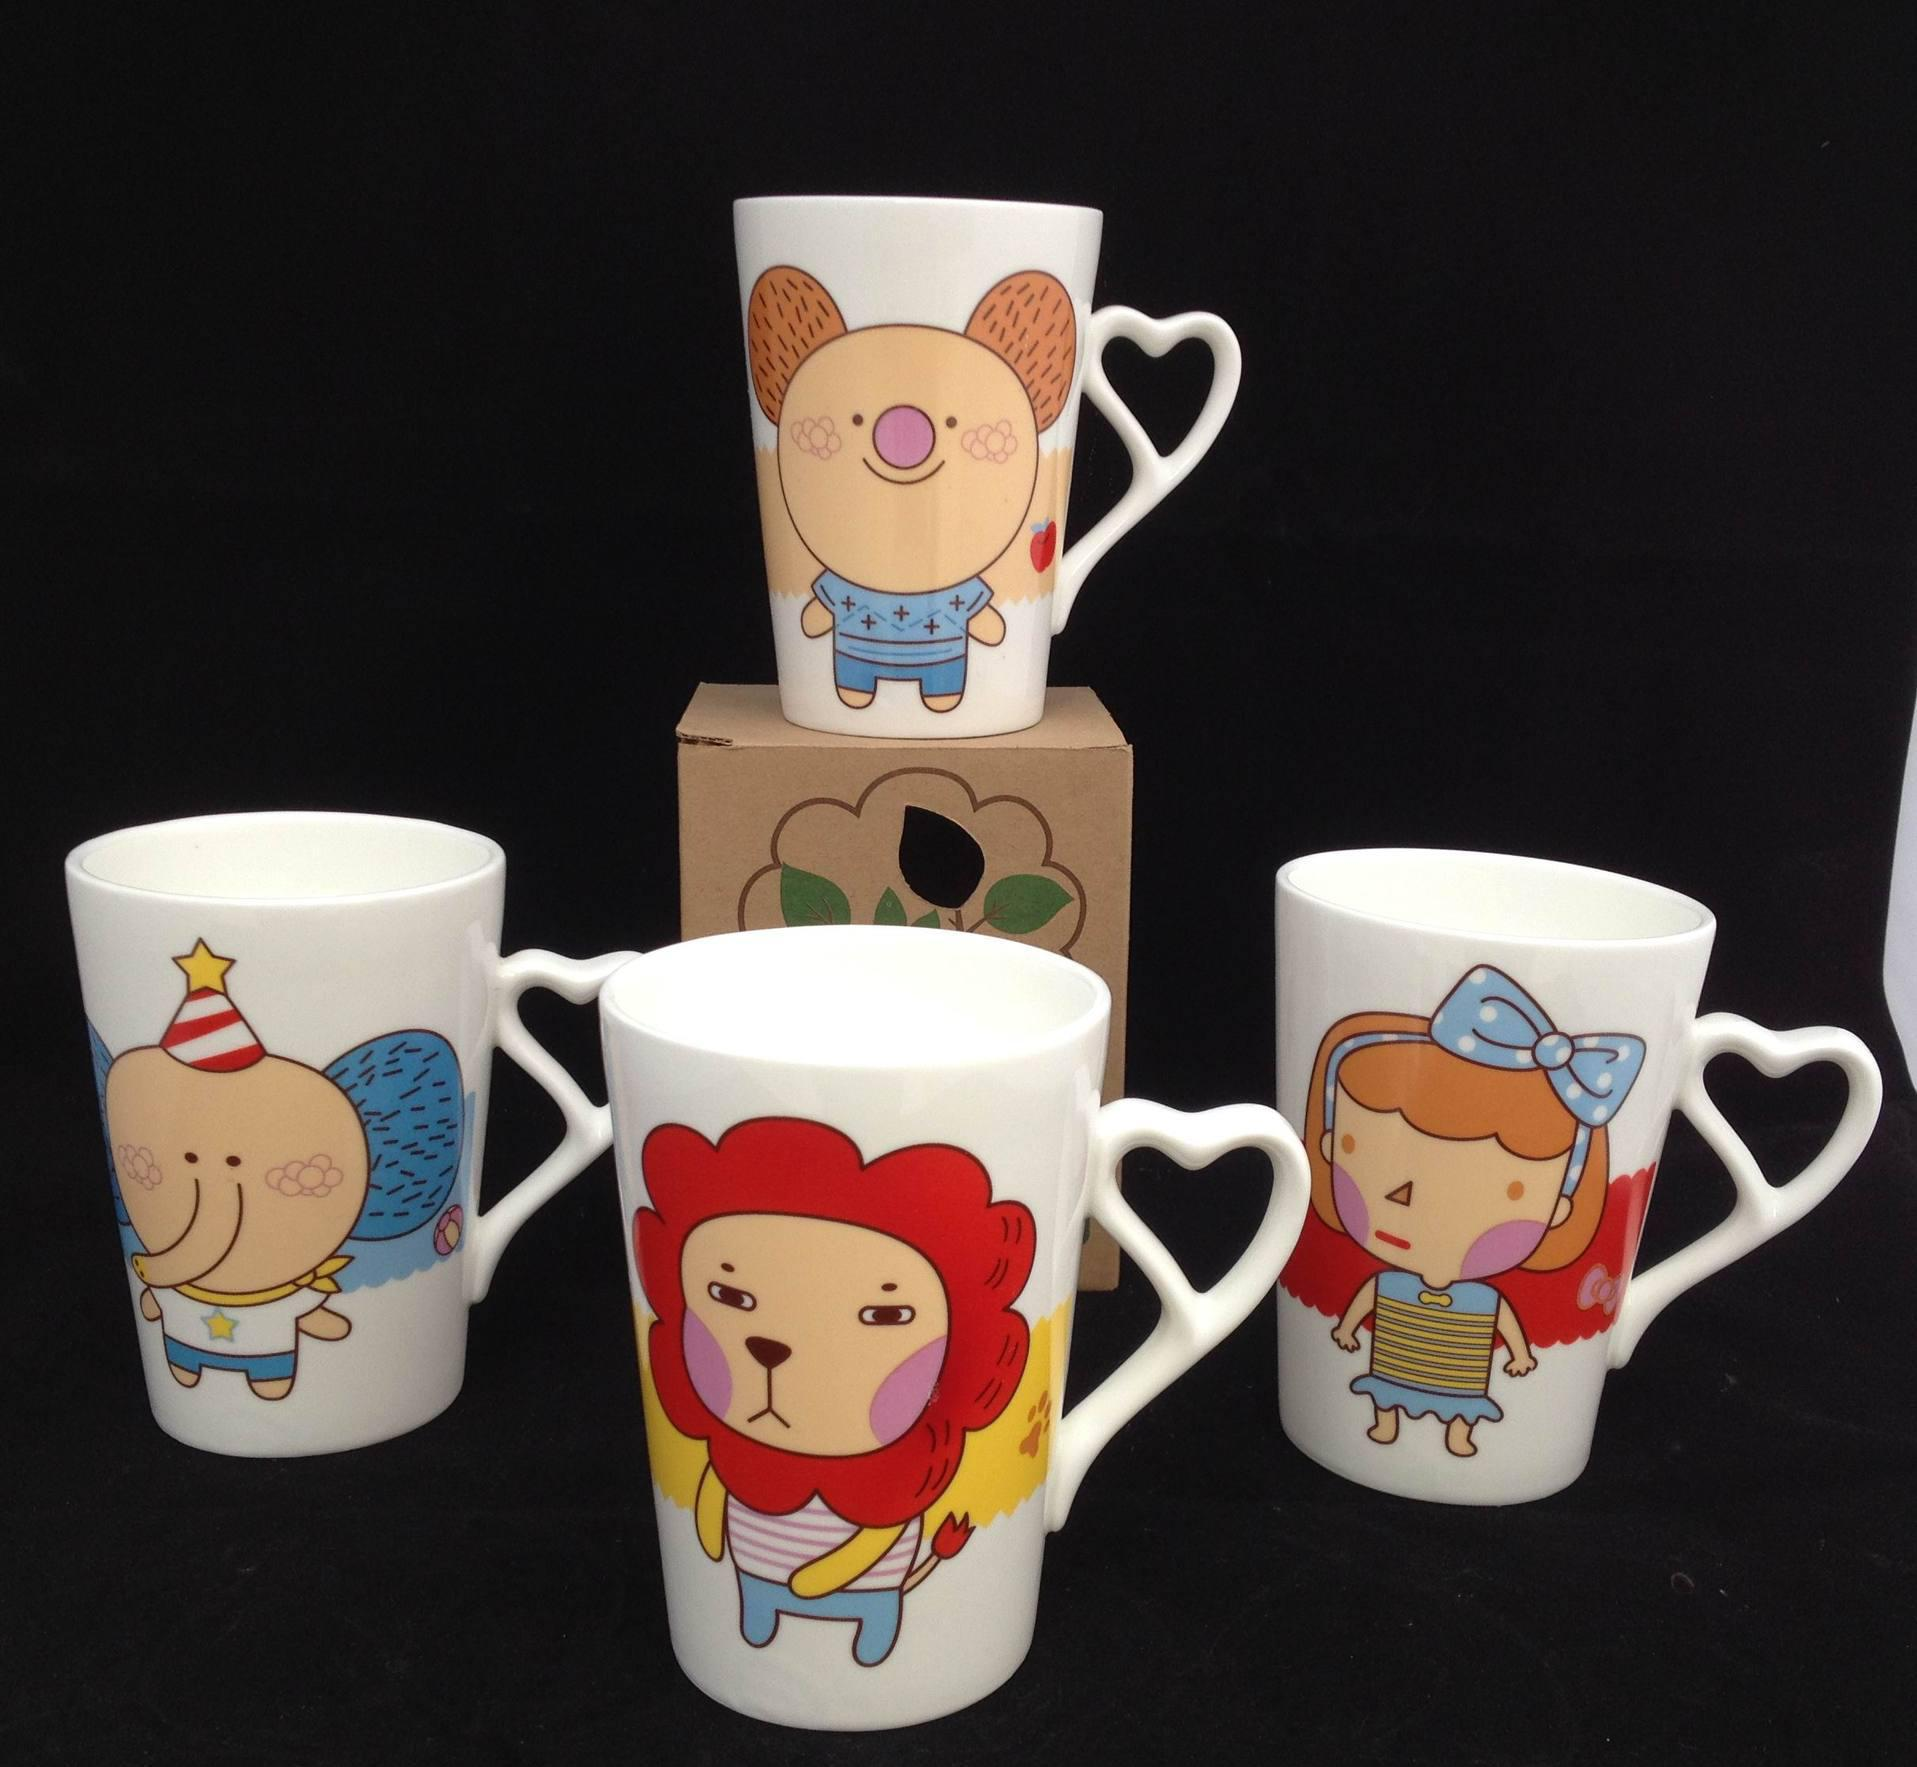cup: (589, 920, 1314, 1735), (1271, 842, 1885, 1513), (53, 798, 609, 1470), (723, 179, 1244, 743)
